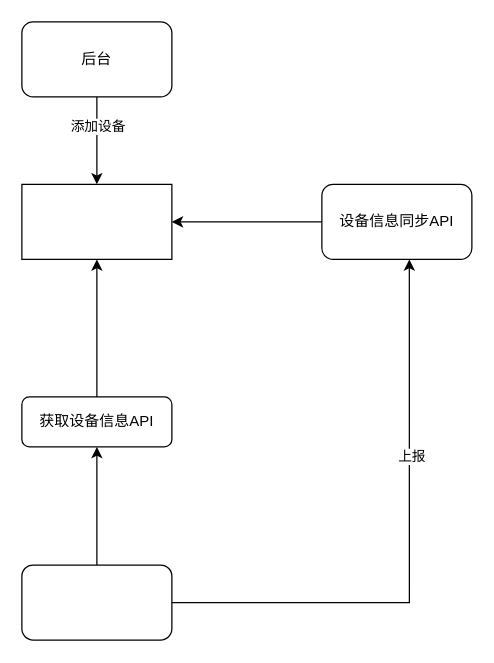
Some shapes in this 494 by 663 pixel diagram are drawn without their labels. The shapes that lost their labels are listed below. From the top down, each one's box as (x1, y1, x2, y2) in pixels, then its label:
(21, 183, 172, 259): Database
(21, 564, 172, 640): 设备
